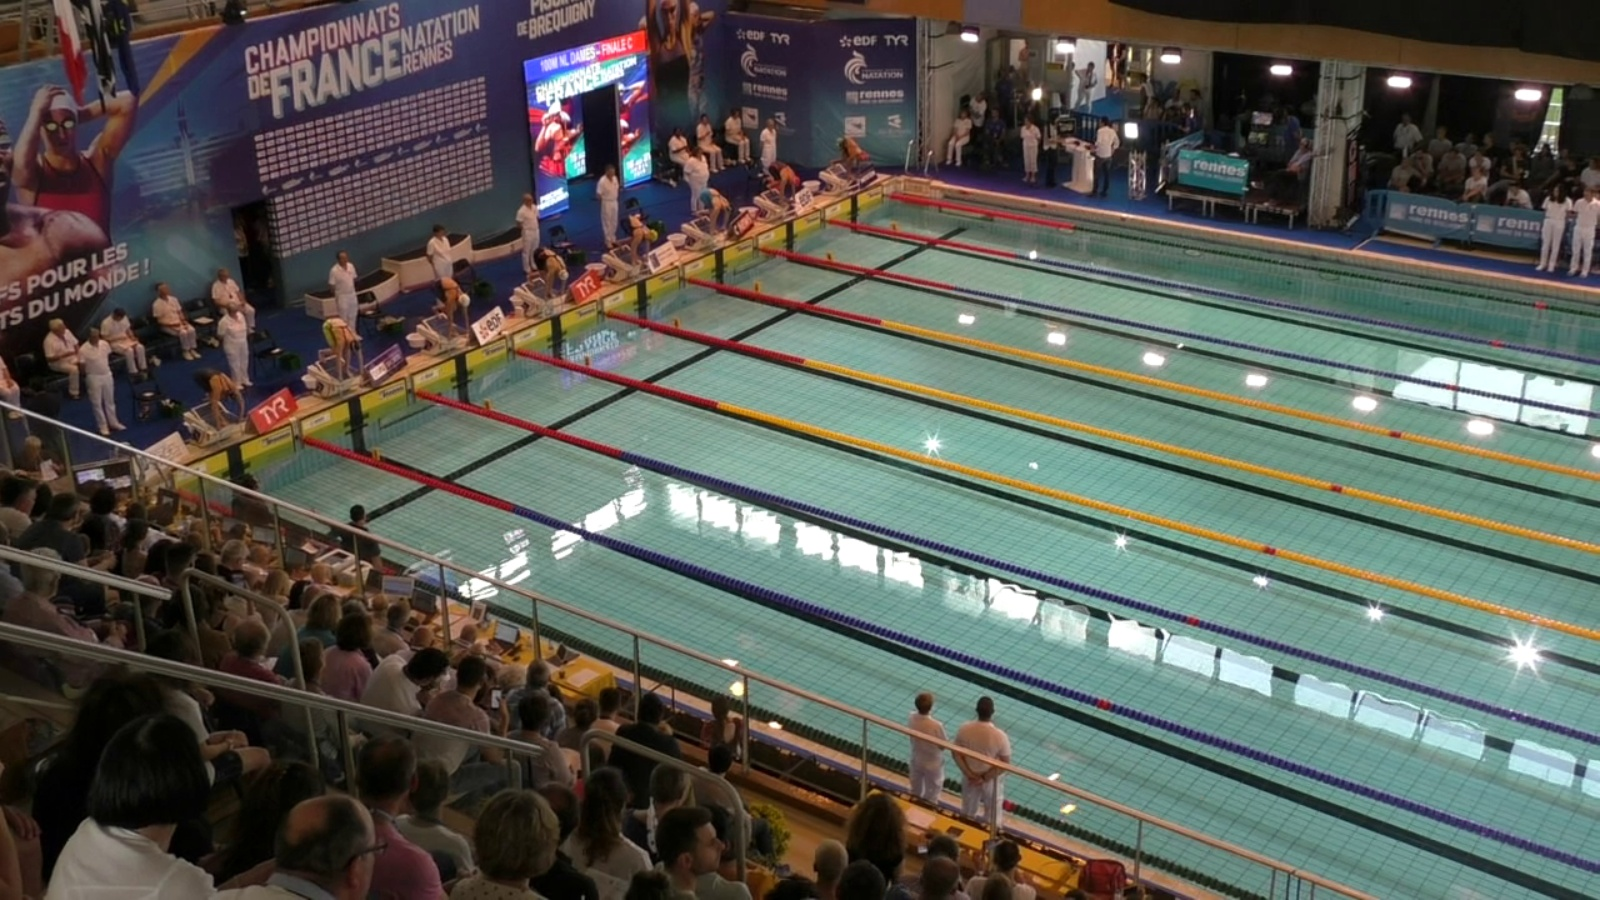swimmerwdd: (197, 365, 258, 435), (423, 271, 479, 343), (315, 315, 370, 385), (523, 245, 575, 312), (613, 213, 662, 273), (690, 184, 733, 243), (762, 159, 805, 215), (833, 138, 874, 180)
